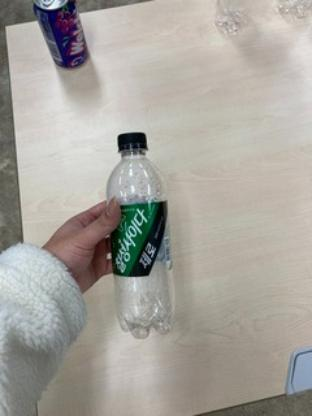Plastic Bottle: (103, 127, 177, 342)
